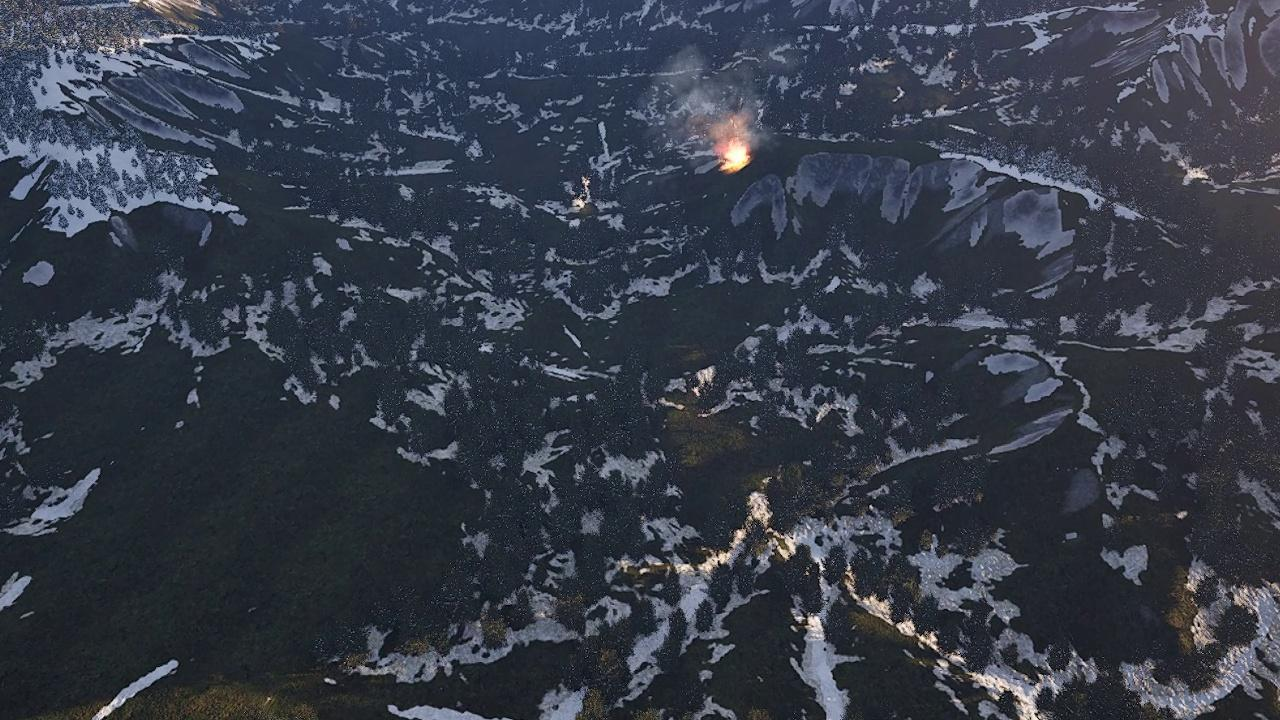fire: (718, 140, 749, 171)
smoke: (652, 41, 772, 143)
